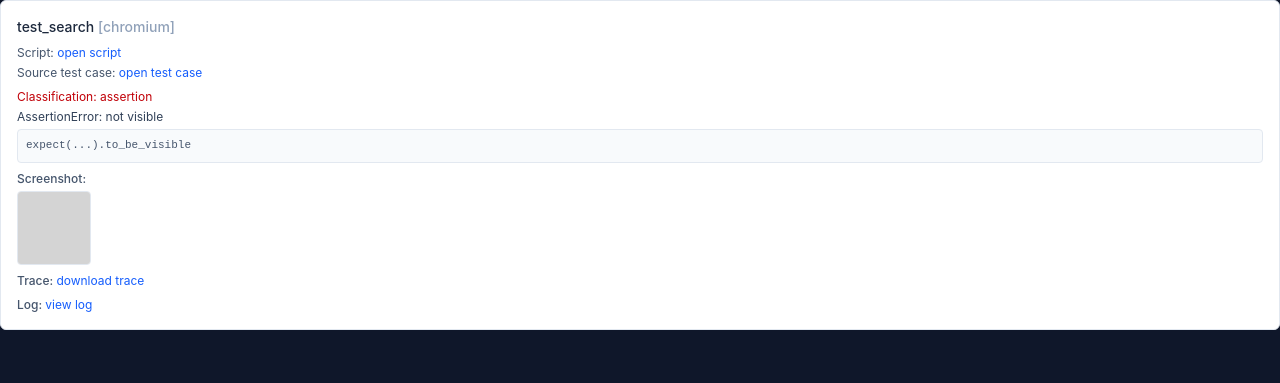
ExecutionResultDetail › decodes the content endpoint for screenshot/trace rather than linking the raw JSON URL
Expected: the text "Classification: assertion" is shown, x1=17 y1=89 x2=152 y2=104
Expected: the text "AssertionError: not visible" is shown, x1=17 y1=109 x2=163 y2=124
Log renders its decoded text inline after the user opens it.
Click the button "view log".
click(69, 305)  # box x1=45 y1=297 x2=92 y2=313
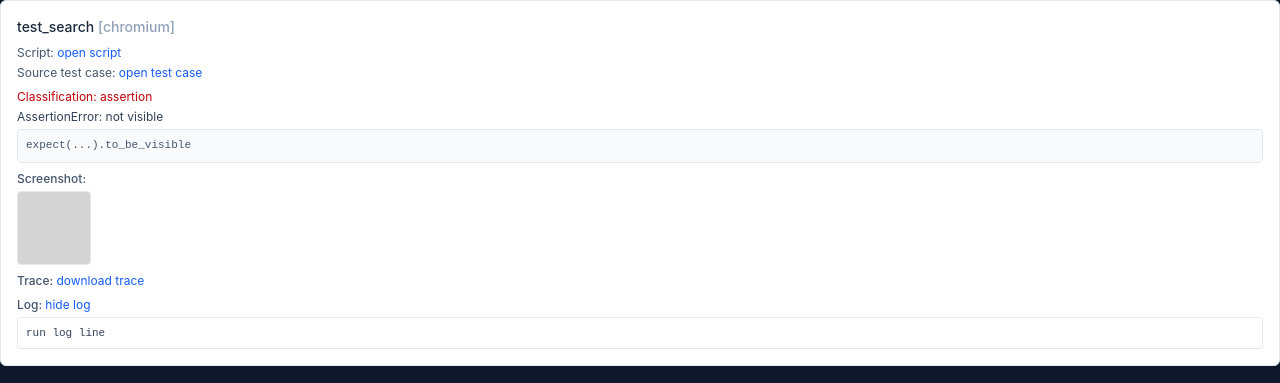
Result: the text "run log line" is shown at x1=17 y1=317 x2=1263 y2=349
